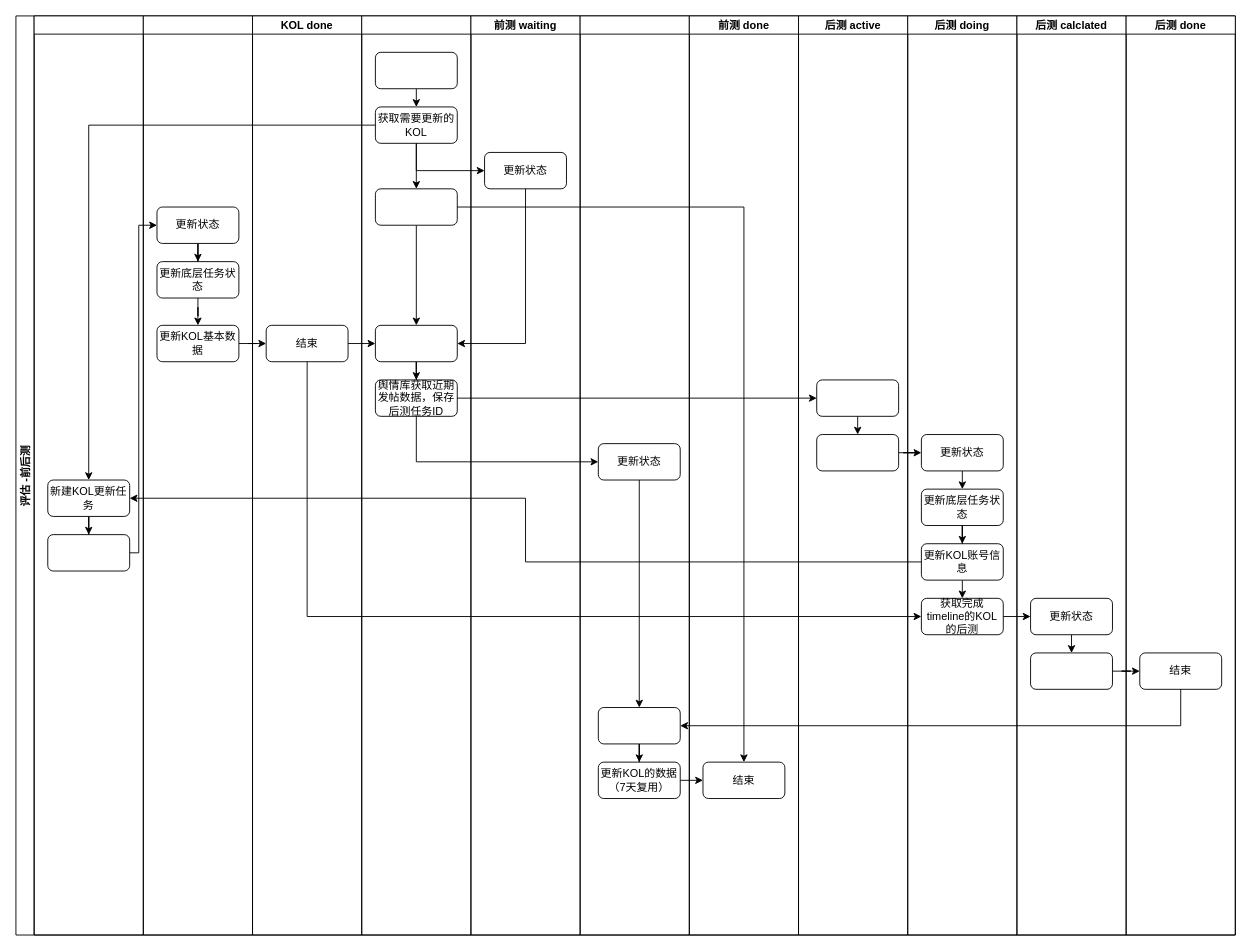
Image size: 1251x951. Some labels were removed from this diagram. Here are the shapes that lost their labels. From the top down, the box of each, then its label:
(374, 51, 457, 89): 新建前测任务
(374, 188, 457, 225): 可复用7天内数据
(374, 324, 457, 362): 获取完成timeline的KOL的前测
(816, 379, 899, 416): 新建帖子更新任务
(816, 434, 899, 471): 向底层提交帖子更新任务
(33, 15, 143, 935): KOL active
(142, 15, 253, 935): KOL doing
(361, 15, 471, 935): 前测 active
(579, 15, 689, 935): 前测 doing
(47, 534, 130, 571): 向底层提交timeline任务
(1030, 652, 1112, 689): 计算后测数据
(597, 707, 680, 744): 获取全部结束的后测任务
